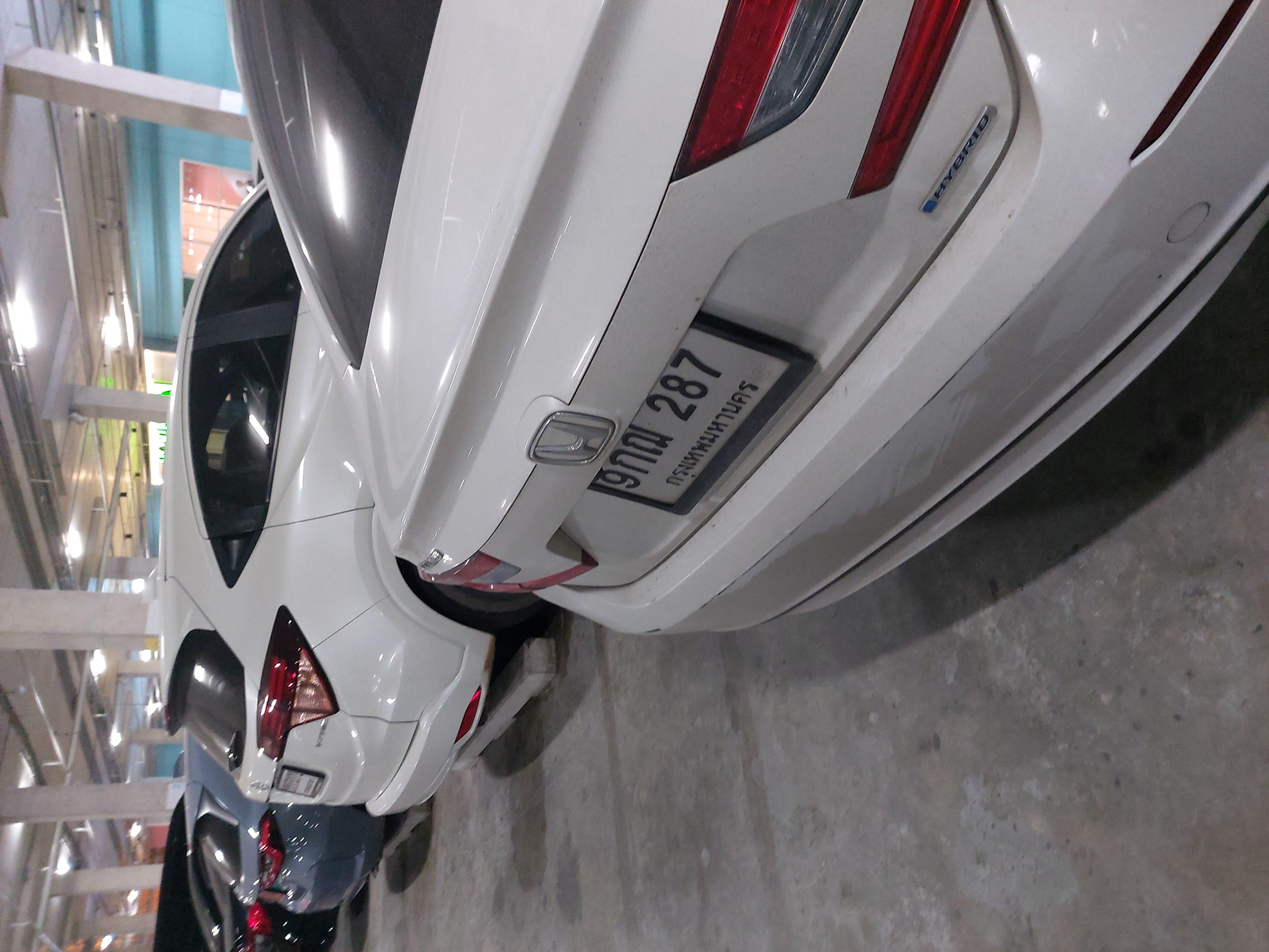license-plate: (590, 443, 833, 594)
